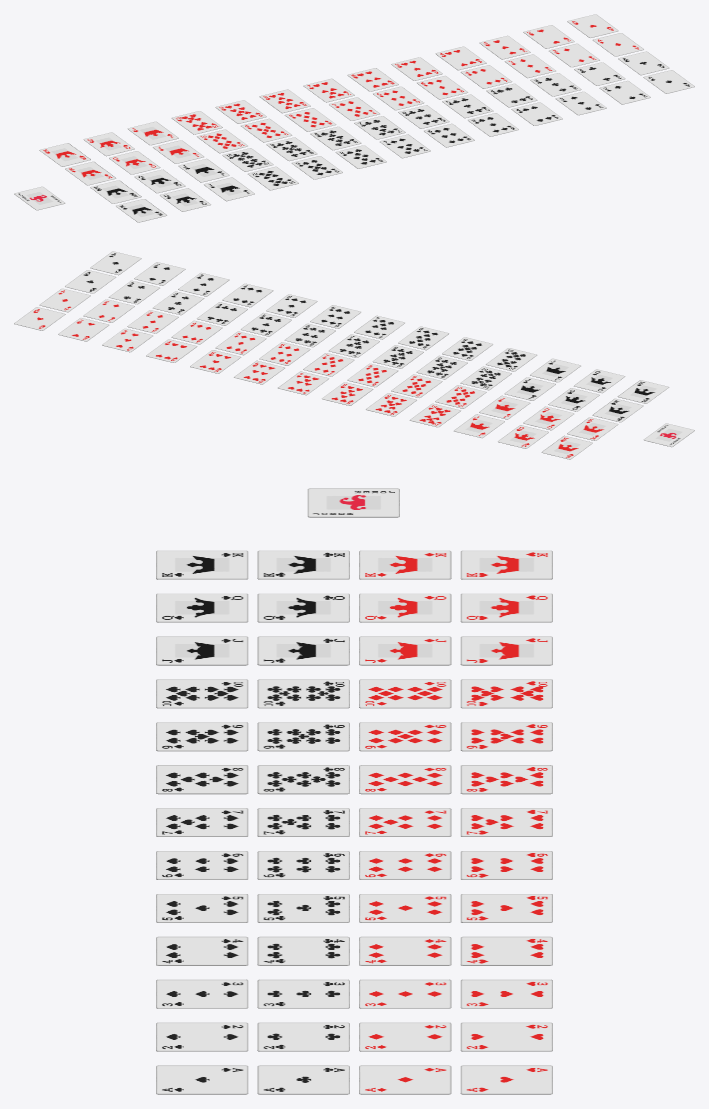
The model's file is RedDeck.fbx.
3 renders of one model, top to bottom at view 1: azimuth 30°, elevation 25°; view 2: azimuth 150°, elevation 25°; view 3: azimuth 270°, elevation 25°, orthographic. The views are drawn at different scales.
Visible parts, largest first — view 1: SevenHeartsRed, EightDiamondRed, FourDiamondRed, JackSpadesRed, JackHeartsRed, NineHeartsRed, EightHeartsRed, NineDiamondRed, FiveDiamondRed, FourClubsRed, ThreeClubsRed, AceClubsRed (+41 smaller); view 2: TwoDiamondRed, AceDiamondRed, TenClubsRed, FiveClubsRed, KingHeartsRed, KingSpadesRed, SixDiamondRed, FourDiamondRed, NineClubsRed, QueenSpadesRed, QueenHeartsRed, TenHeartsRed (+41 smaller); view 3: QueenHeartsRed, JackHeartsRed, TenHeartsRed, NineHeartsRed, ThreeHeartsRed, TwoHeartsRed, AceHeartsRed, KingDiamondRed.001, JackDiamondRed, NineDiamondRed, ThreeDiamondRed, TwoDiamondRed (+41 smaller).
Part boxes in pixels (bbox=[...]): SevenHeartsRed: bbox=[303, 78, 354, 102]; EightDiamondRed: bbox=[284, 108, 336, 131]; FourDiamondRed: bbox=[460, 65, 512, 88]; JackSpadesRed: bbox=[203, 177, 254, 201]; JackHeartsRed: bbox=[127, 121, 178, 145]; NineHeartsRed: bbox=[215, 100, 266, 123]; EightHeartsRed: bbox=[259, 89, 310, 113]; NineDiamondRed: bbox=[241, 118, 292, 142]; FiveDiamondRed: bbox=[417, 75, 468, 99]; FourClubsRed: bbox=[486, 83, 537, 107]; ThreeClubsRed: bbox=[530, 73, 581, 96]; AceClubsRed: bbox=[618, 51, 669, 75]; TwoDiamondRed: bbox=[83, 299, 134, 322]; AceDiamondRed: bbox=[39, 288, 90, 312]; TenClubsRed: bbox=[460, 366, 511, 390]; FiveClubsRed: bbox=[240, 312, 291, 336]; KingHeartsRed: bbox=[541, 435, 592, 459]; KingSpadesRed: bbox=[617, 380, 669, 403]; SixDiamondRed: bbox=[259, 342, 310, 365]; FourDiamondRed: bbox=[171, 320, 222, 344]; NineClubsRed: bbox=[416, 355, 467, 379]; QueenSpadesRed: bbox=[574, 369, 625, 393]; QueenHeartsRed: bbox=[497, 425, 548, 448]; TenHeartsRed: bbox=[409, 403, 460, 427]; QueenHeartsRed: bbox=[460, 593, 552, 622]; JackHeartsRed: bbox=[460, 636, 552, 665]; TenHeartsRed: bbox=[460, 679, 552, 708]; NineHeartsRed: bbox=[460, 722, 552, 751]; ThreeHeartsRed: bbox=[460, 979, 552, 1008]; TwoHeartsRed: bbox=[460, 1022, 552, 1051]; AceHeartsRed: bbox=[460, 1065, 552, 1094]; KingDiamondRed.001: bbox=[359, 593, 451, 622]; JackDiamondRed: bbox=[359, 636, 451, 665]; NineDiamondRed: bbox=[359, 722, 451, 751]; ThreeDiamondRed: bbox=[359, 979, 451, 1008]; TwoDiamondRed: bbox=[359, 1022, 451, 1051].
Size of the model in its own units: 14.12 by 0.00481 by 3.91.
